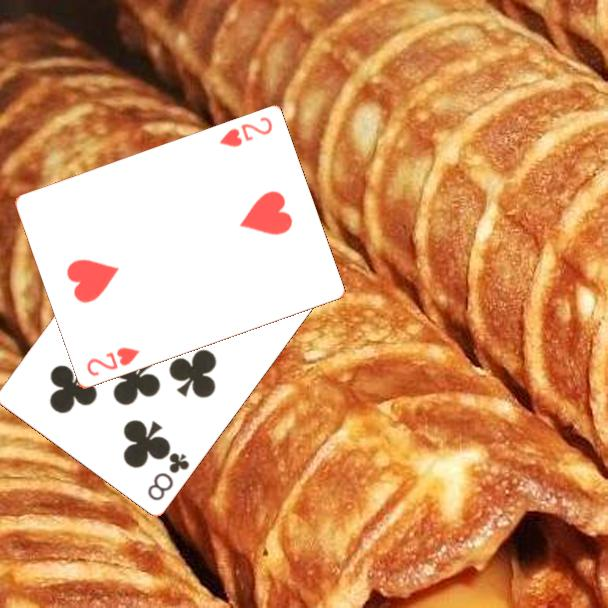c08: (144, 448, 192, 503)
h02: (215, 114, 275, 150), (83, 344, 142, 380)
